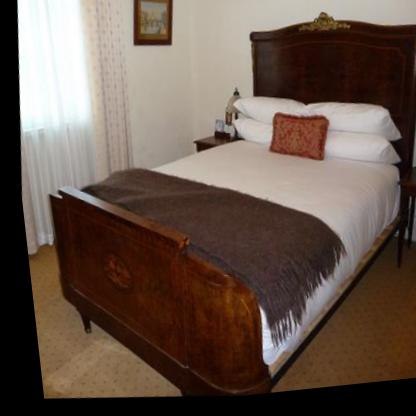Bed: (10, 0, 416, 415)
Curtains: (18, 0, 129, 256)
